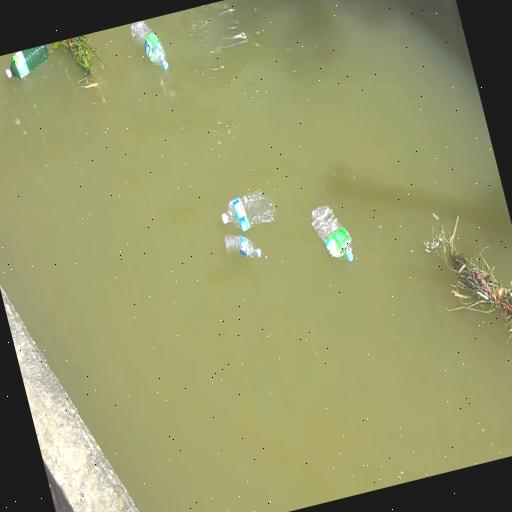plastic: (214, 186, 282, 238), (304, 201, 354, 269), (126, 19, 174, 78), (0, 43, 60, 89), (214, 233, 266, 272)
twig: (442, 226, 512, 352), (56, 33, 107, 94)
